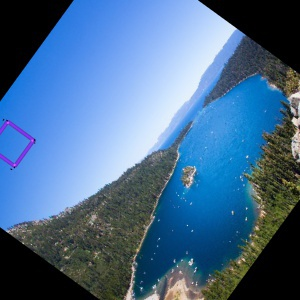square: (1, 118, 37, 175)
